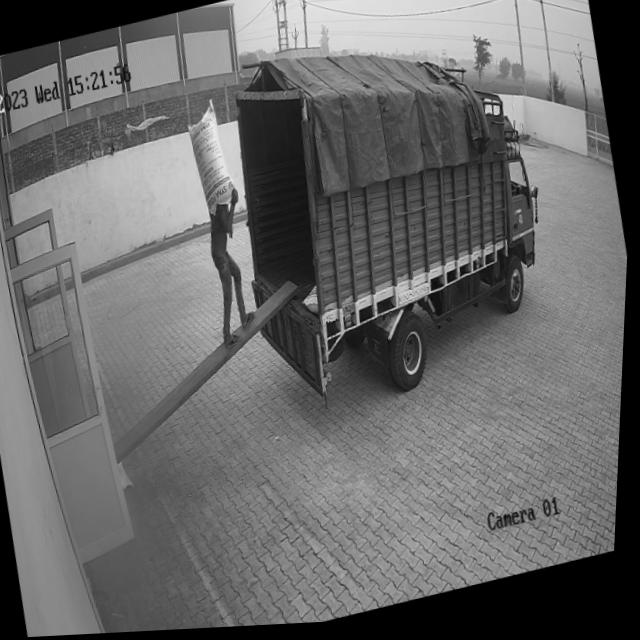sack: (181, 98, 243, 219)
